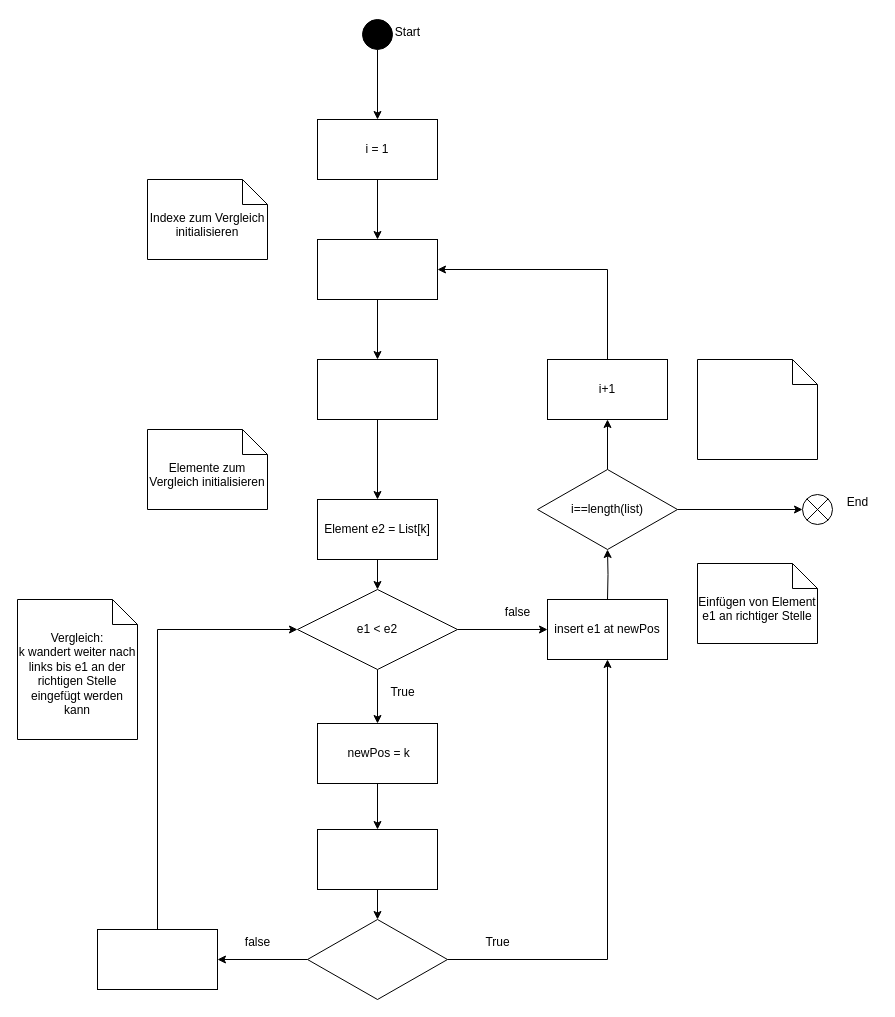
The diagram is 895 pixels wide and 1017 high, and some of its shapes have lost their labels. The centre of each missing label's shape, as x and y in pixels:
"Abbruch wenn i am Ende angekommen ist oder hochzählen von i" belongs at (757,409).
"e2 = List[k]" belongs at (157,959).
"Element e1= [i]" belongs at (377,389).
"k = i-1" belongs at (377,269).
"k--" belongs at (377,859).
"k<0" belongs at (377,959).
